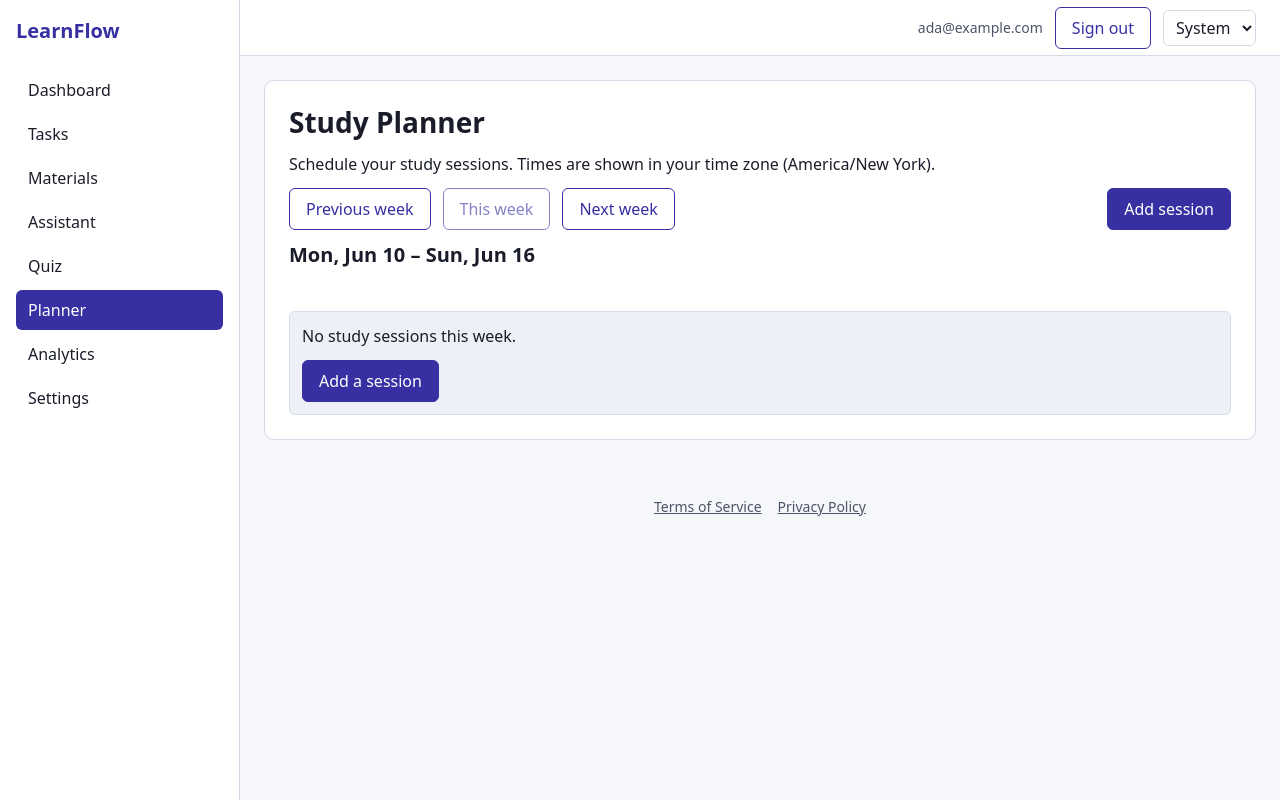
Test case: planner: adding a session › refuses a session longer than 12 hours
The width and height of the screenshot is (1280, 800).
Expected: the element that starts with "Study Planner" is shown, [240,56,1279,480]
Expected: the heading "Study Planner" is shown, [289,103,485,141]
Click the button "Add session".
click(1169, 209)  # box [1107,188,1231,230]
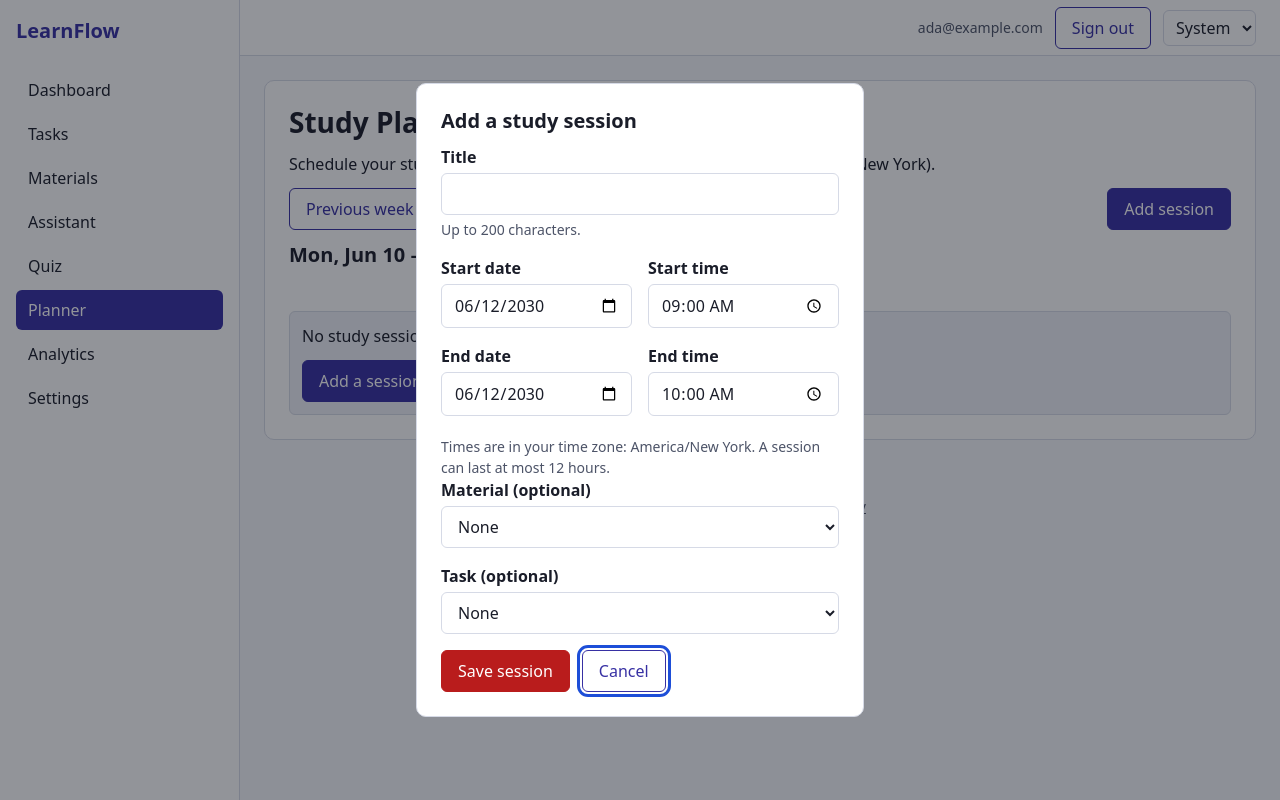
Result: the dialog is shown at [416,83,864,717]
Type "Marathon" into the field labelled "Title".
click(640, 194); type("Marathon")  # box [441,173,839,215]
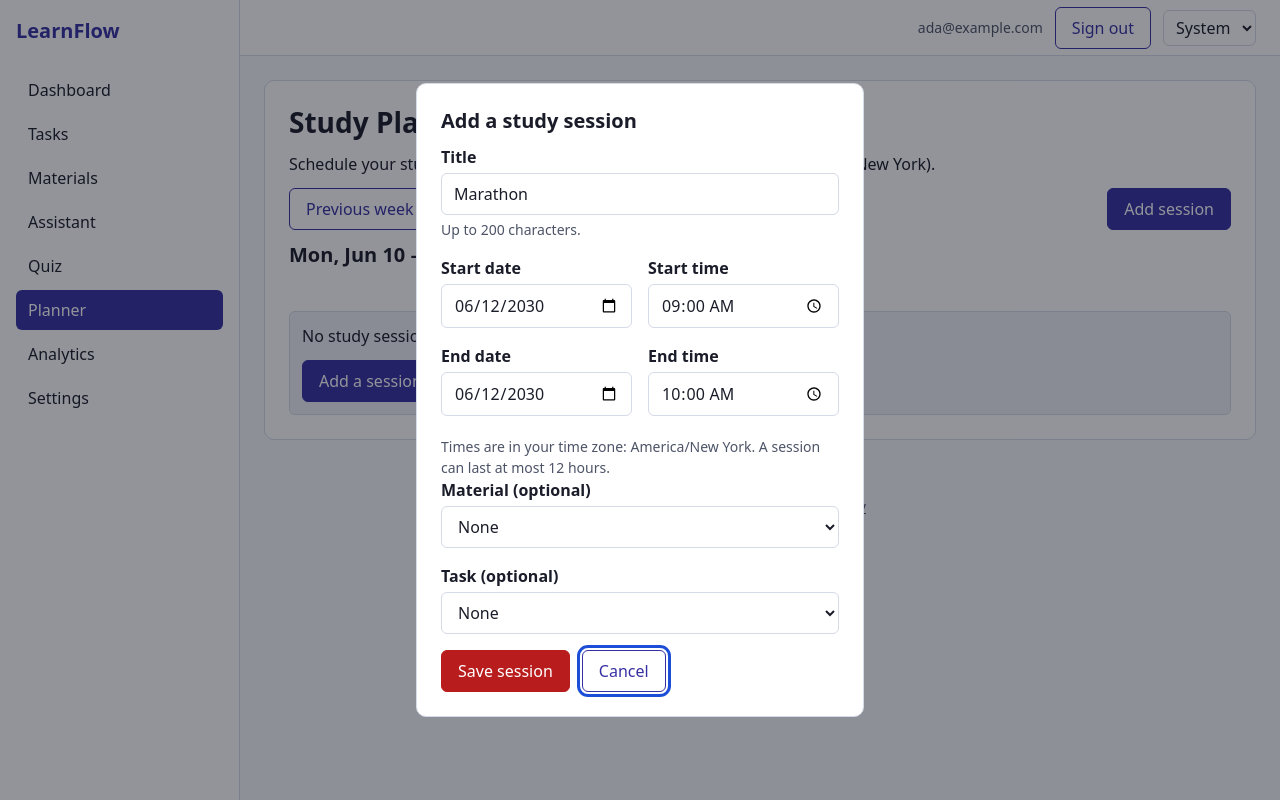
Replace the text in the time field labelled "End time" with "21:30" at (744, 394), box [648,372,839,416]
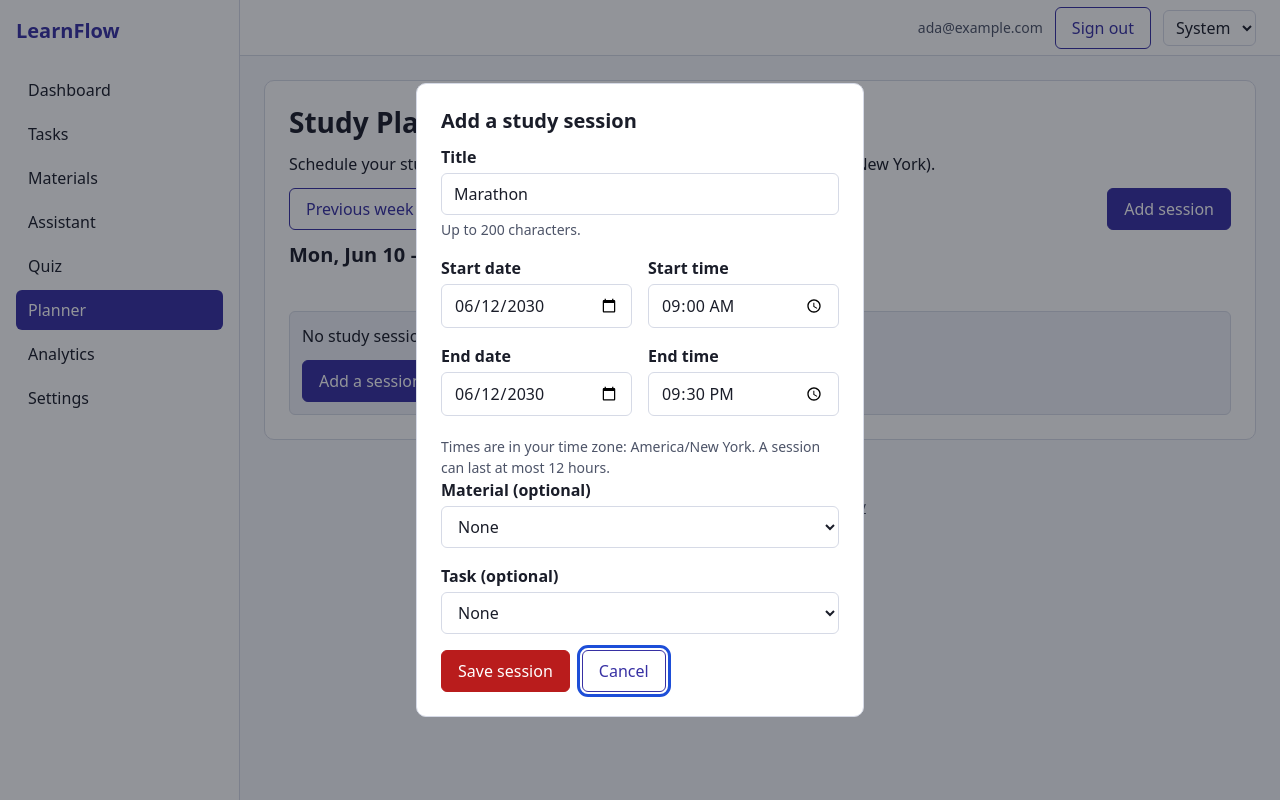
Click the button "Save session".
click(505, 671)  # box [441,650,570,692]
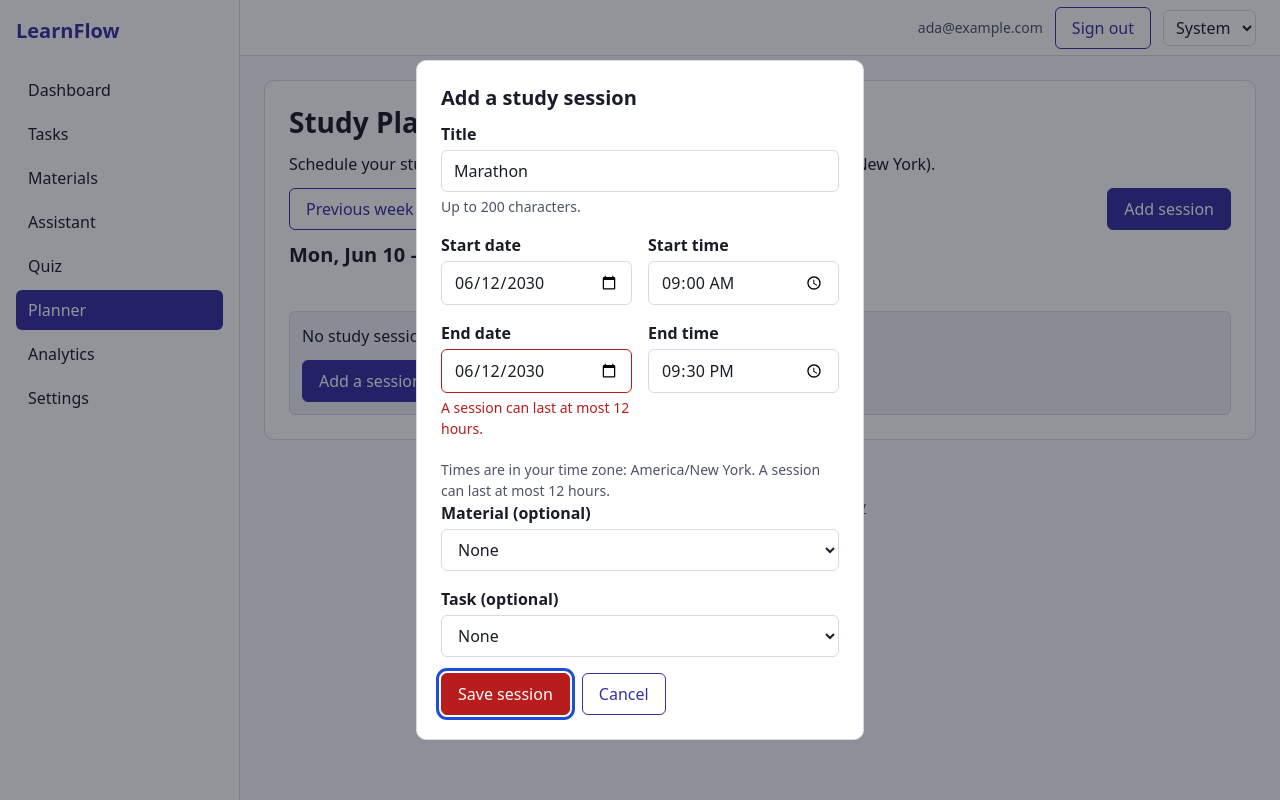
Result: the text "A session can last at most 12 hours." is shown at [441,397,632,439]
